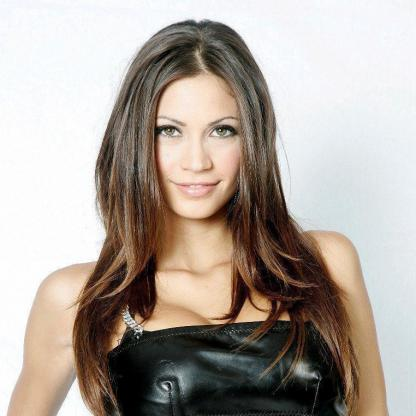long-hair: (79, 223, 346, 298)
